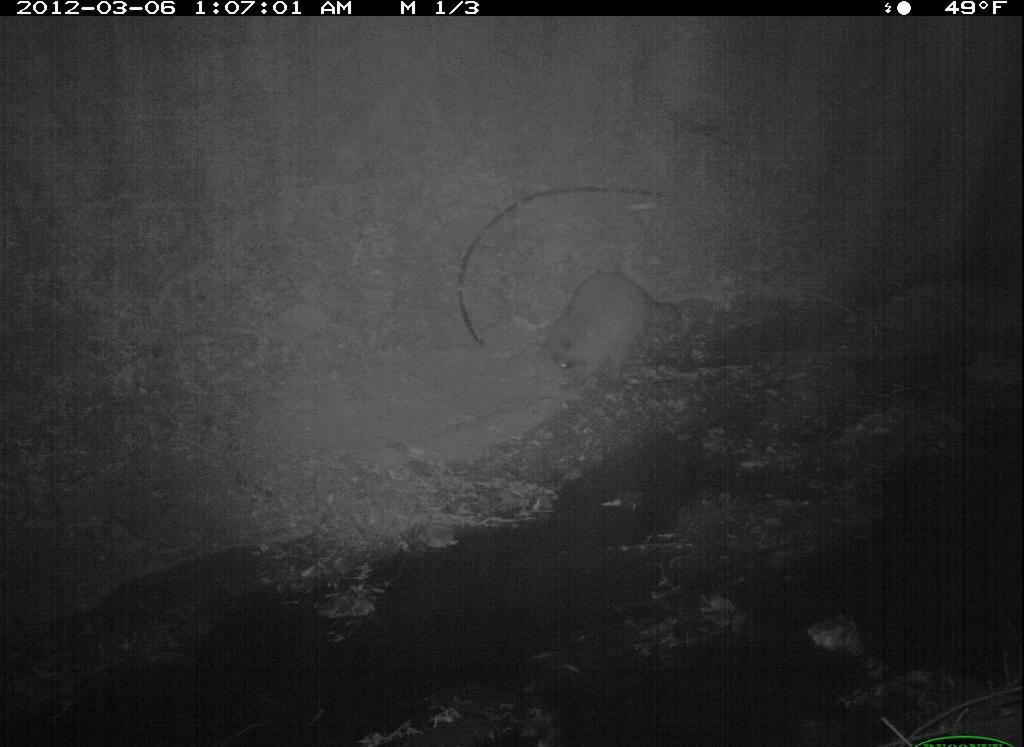raccoon: (546, 268, 715, 391)
